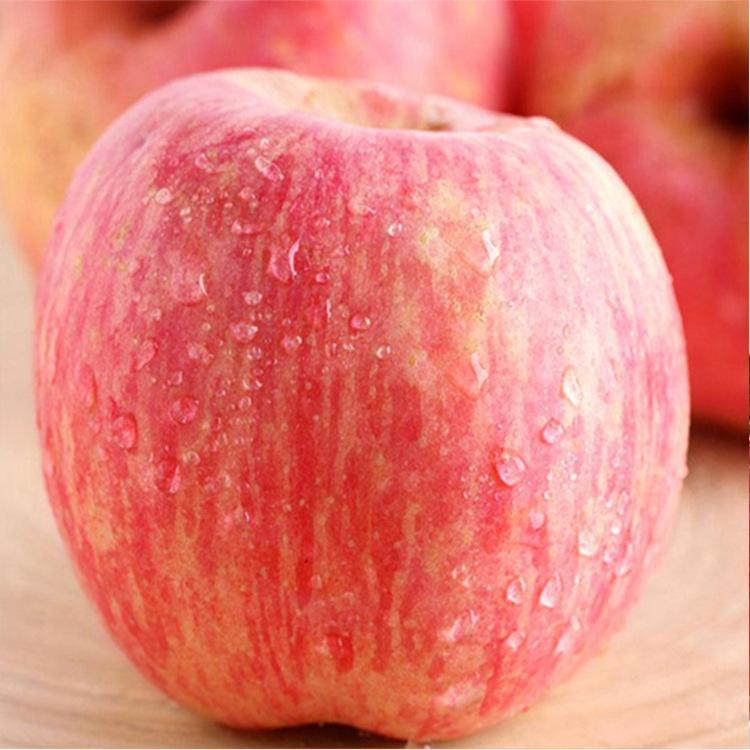apple: (31, 48, 703, 736), (36, 21, 680, 320), (506, 3, 749, 451)
